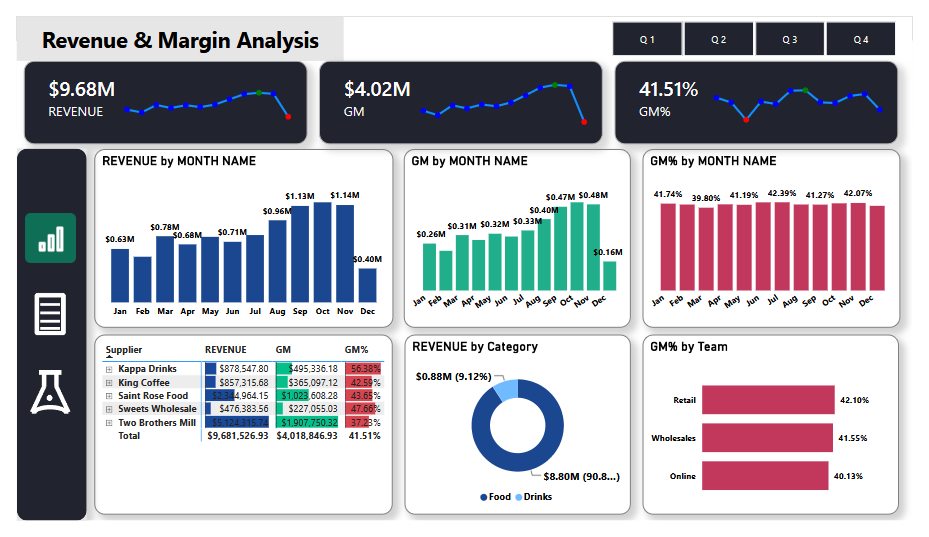

The dashboard page shown, as its layout file describes it:
{"tool":"powerbi","page":{"name":"Revenue & Margin","canvas":[1280,720],"ordinal":0},"visuals":[{"type":"cardVisual","fields":{"Data":["REVENUE CALCULATIONS.REVENUE"]},"box":[10,62.9,405,119],"z":0},{"type":"clusteredColumnChart","fields":{"Category":["CALENDER.MONTH NAME"],"Y":["REVENUE CALCULATIONS.REVENUE"]},"box":[111.4,188.6,426.2,255.4],"z":1000},{"type":"clusteredColumnChart","fields":{"Category":["CALENDER.MONTH NAME"],"Y":["REVENUE CALCULATIONS.GM"]},"box":[552.9,188.6,324.6,255.4],"z":2000},{"type":"clusteredColumnChart","fields":{"Category":["CALENDER.MONTH NAME"],"Y":["REVENUE CALCULATIONS.GM%"]},"box":[894.3,188.6,367.7,255.4],"z":3000},{"type":"pivotTable","fields":{"Rows":["dProduct.Supplier","dProduct.Category"],"Values":["REVENUE CALCULATIONS.REVENUE","REVENUE CALCULATIONS.GM","REVENUE CALCULATIONS.GM%"]},"box":[111.4,454.3,425.7,257.1],"z":4000},{"type":"clusteredBarChart","fields":{"Category":["Revenue.Team"],"Y":["REVENUE CALCULATIONS.GM%"]},"box":[894.3,454.3,365.7,257.1],"z":5000},{"type":"donutChart","fields":{"Category":["dProduct.Category"],"Y":["REVENUE CALCULATIONS.REVENUE"]},"box":[554.3,454.3,322.9,257.1],"z":6000},{"type":"shape","box":[0,188.3,100,531.7],"z":7000},{"type":"shape","box":[0,0,467.1,62.9],"z":8000},{"type":"lineChart","fields":{"Category":["CALENDER.MONTH NAME"],"Y":["REVENUE CALCULATIONS.REVENUE"]},"box":[144.3,80,257.1,85.7],"z":9000},{"type":"cardVisual","fields":{"Data":["REVENUE CALCULATIONS.GM"]},"box":[432.1,62.9,405,119],"z":10000},{"type":"cardVisual","fields":{"Data":["REVENUE CALCULATIONS.GM%"]},"box":[854.3,62.9,405,119],"z":11000},{"type":"lineChart","fields":{"Category":["CALENDER.MONTH NAME"],"Y":["REVENUE CALCULATIONS.GM"]},"box":[567.1,78.6,257.1,87.1],"z":12000},{"type":"lineChart","fields":{"Category":["CALENDER.MONTH NAME"],"Y":["REVENUE CALCULATIONS.GM%"]},"box":[985.7,81.4,260,84.3],"z":13000},{"type":"image","box":[6.7,280,81.7,71.7],"z":14000},{"type":"image","box":[6.7,493.3,81.7,90],"z":15000},{"type":"image","box":[8.3,378.3,80,91.7],"z":16000},{"type":"slicer","fields":{"Values":["CALENDER.QTY"]},"box":[825.1,0,455,63.4],"z":17000}]}

Visuals, with their boxes on the page's 1280x720 design canvas (x1, y1, x2, y2). These are canvas units, not pixel positions in the 929x537 screenshot, which may show the page scaled, cropped or inside an application window:
cardVisual - REVENUE CALCULATIONS.REVENUE: <bbox>10, 63, 415, 182</bbox>
clusteredColumnChart - CALENDER.MONTH NAME x REVENUE CALCULATIONS.REVENUE: <bbox>111, 189, 538, 444</bbox>
clusteredColumnChart - CALENDER.MONTH NAME x REVENUE CALCULATIONS.GM: <bbox>553, 189, 878, 444</bbox>
clusteredColumnChart - CALENDER.MONTH NAME x REVENUE CALCULATIONS.GM%: <bbox>894, 189, 1262, 444</bbox>
pivotTable - dProduct.Supplier x dProduct.Category: <bbox>111, 454, 537, 711</bbox>
clusteredBarChart - Revenue.Team x REVENUE CALCULATIONS.GM%: <bbox>894, 454, 1260, 711</bbox>
donutChart - dProduct.Category x REVENUE CALCULATIONS.REVENUE: <bbox>554, 454, 877, 711</bbox>
shape: <bbox>0, 188, 100, 720</bbox>
shape: <bbox>0, 0, 467, 63</bbox>
lineChart - CALENDER.MONTH NAME x REVENUE CALCULATIONS.REVENUE: <bbox>144, 80, 401, 166</bbox>
cardVisual - REVENUE CALCULATIONS.GM: <bbox>432, 63, 837, 182</bbox>
cardVisual - REVENUE CALCULATIONS.GM%: <bbox>854, 63, 1259, 182</bbox>
lineChart - CALENDER.MONTH NAME x REVENUE CALCULATIONS.GM: <bbox>567, 79, 824, 166</bbox>
lineChart - CALENDER.MONTH NAME x REVENUE CALCULATIONS.GM%: <bbox>986, 81, 1246, 166</bbox>
image: <bbox>7, 280, 88, 352</bbox>
image: <bbox>7, 493, 88, 583</bbox>
image: <bbox>8, 378, 88, 470</bbox>
slicer - CALENDER.QTY: <bbox>825, 0, 1280, 63</bbox>
